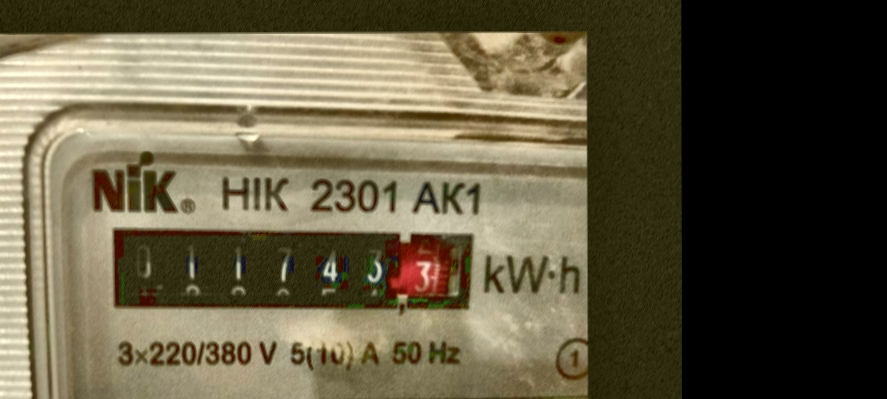0: (130, 243, 152, 282), (180, 242, 198, 283)
1: (227, 243, 243, 284)
3: (362, 245, 382, 288), (410, 258, 430, 296)
4: (317, 245, 337, 286)
7: (270, 243, 293, 287)
screen: (91, 215, 479, 323)
